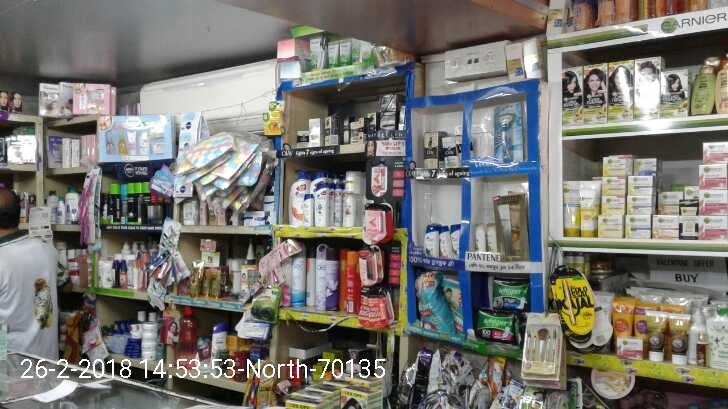gillete: (142, 182, 150, 225), (121, 184, 129, 225), (113, 184, 121, 225), (129, 182, 136, 225), (136, 182, 142, 225), (108, 183, 113, 225), (101, 193, 107, 224)
venus: (493, 94, 523, 167)
